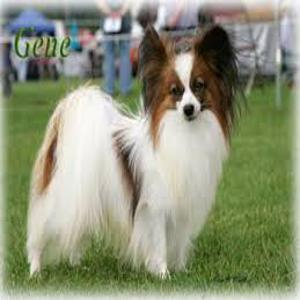yell: (26, 23, 239, 275)
